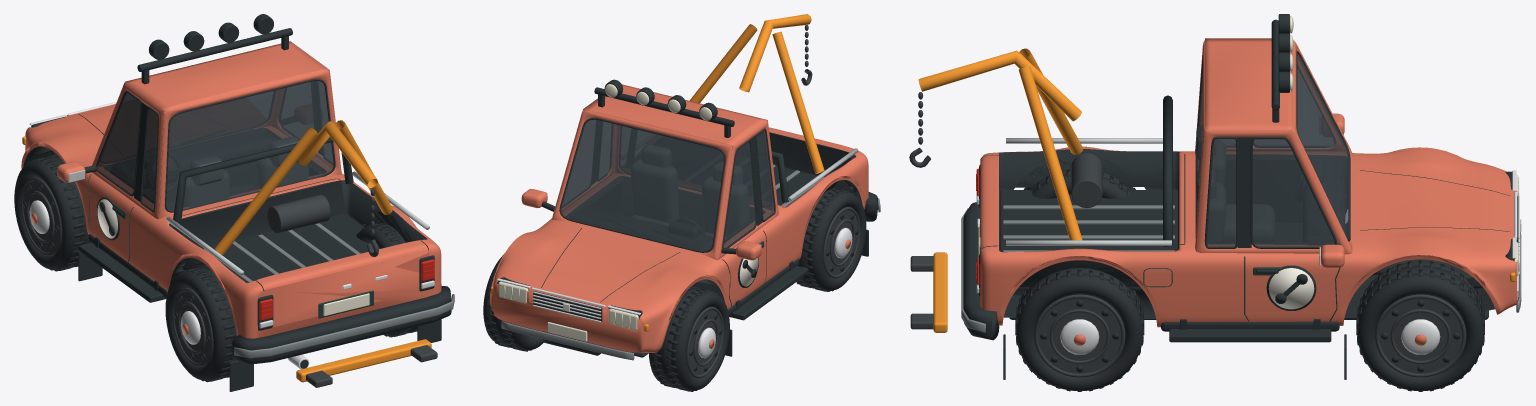
The model's file is pitgarage.fbx.
The picture shows the model from 3 angles, left to right: view 1: azimuth 30°, elevation 25°; view 2: azimuth 150°, elevation 25°; view 3: azimuth 270°, elevation 25°; orthographic projection. The views are drawn at different scales.
Parts seen in each view (by area): view 1: Body, Wheel_FL_Mesh, Wheel_RL_Mesh, Wheel_RR_Mesh; view 2: Body, Wheel_FL_Mesh, Wheel_RL_Mesh, Wheel_FR_Mesh; view 3: Body, Wheel_FR_Mesh, Wheel_RR_Mesh, Wheel_RL_Mesh.
Part boxes in pixels (x1=…): Body: x1=21, y1=14, x2=454, y2=391; Wheel_FL_Mesh: x1=14, y1=154, x2=89, y2=271; Wheel_RL_Mesh: x1=165, y1=267, x2=236, y2=382; Wheel_RR_Mesh: x1=356, y1=223, x2=417, y2=337; Body: x1=489, y1=14, x2=880, y2=360; Wheel_FL_Mesh: x1=649, y1=286, x2=729, y2=391; Wheel_RL_Mesh: x1=796, y1=188, x2=866, y2=291; Wheel_FR_Mesh: x1=483, y1=253, x2=543, y2=351; Body: x1=909, y1=14, x2=1521, y2=379; Wheel_FR_Mesh: x1=1356, y1=260, x2=1484, y2=391; Wheel_RR_Mesh: x1=1015, y1=268, x2=1144, y2=391; Wheel_RL_Mesh: x1=1023, y1=168, x2=1135, y2=198.
Bounding box in the file's own units: 238 × 226 × 431.
